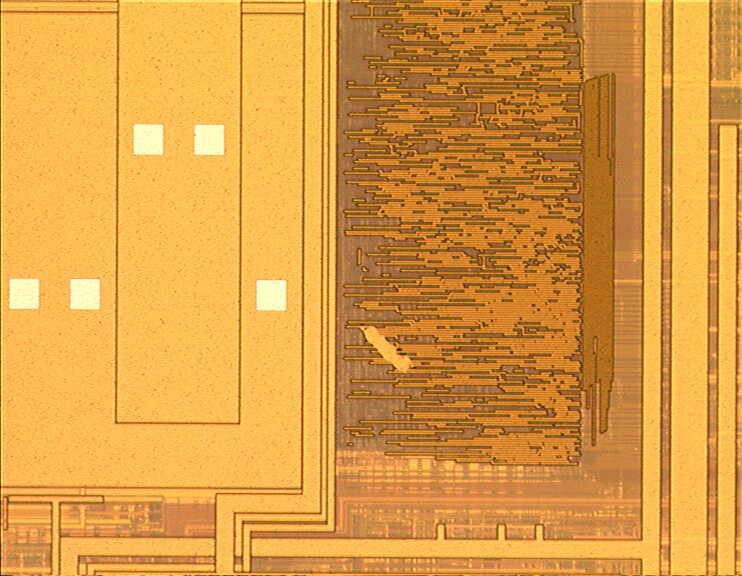BLOCK ETCH: (357, 65, 622, 450)
